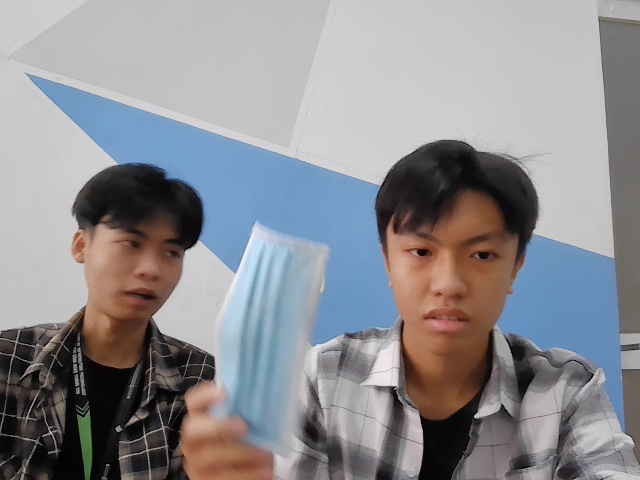human: (368, 143, 522, 358), (72, 158, 199, 329)
mask: (211, 220, 321, 461)
